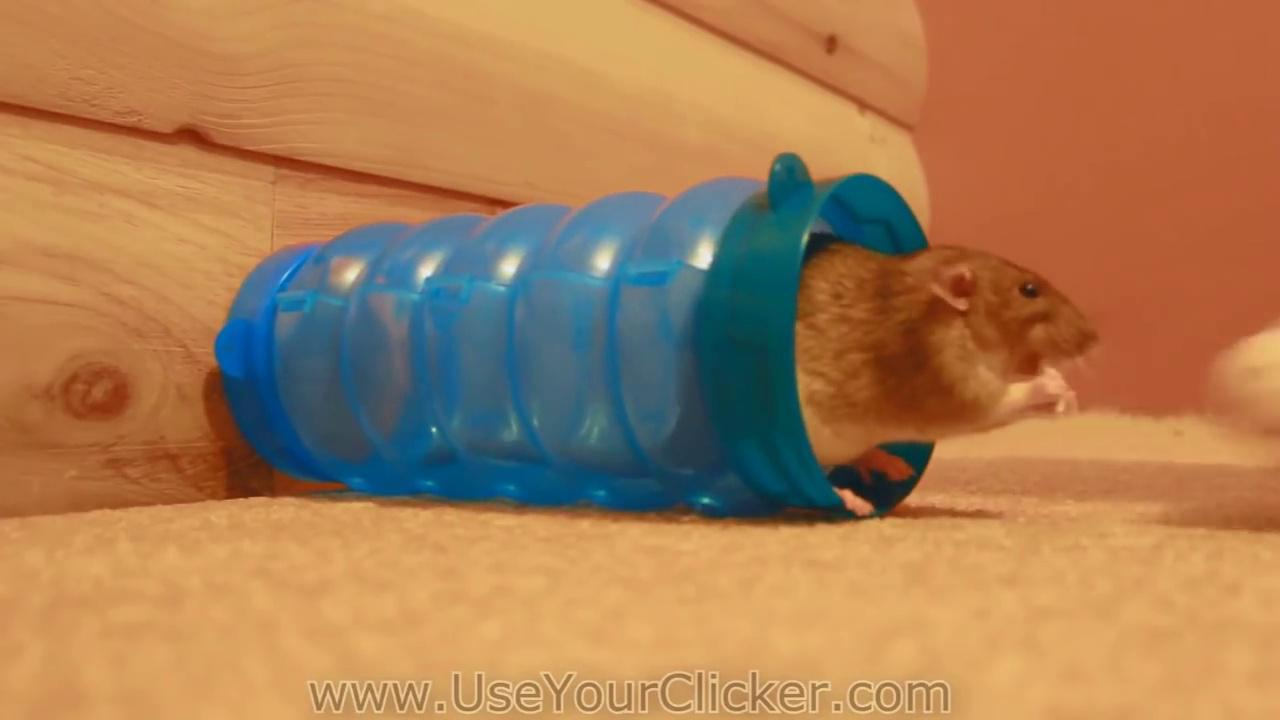rat: (781, 231, 1103, 515)
